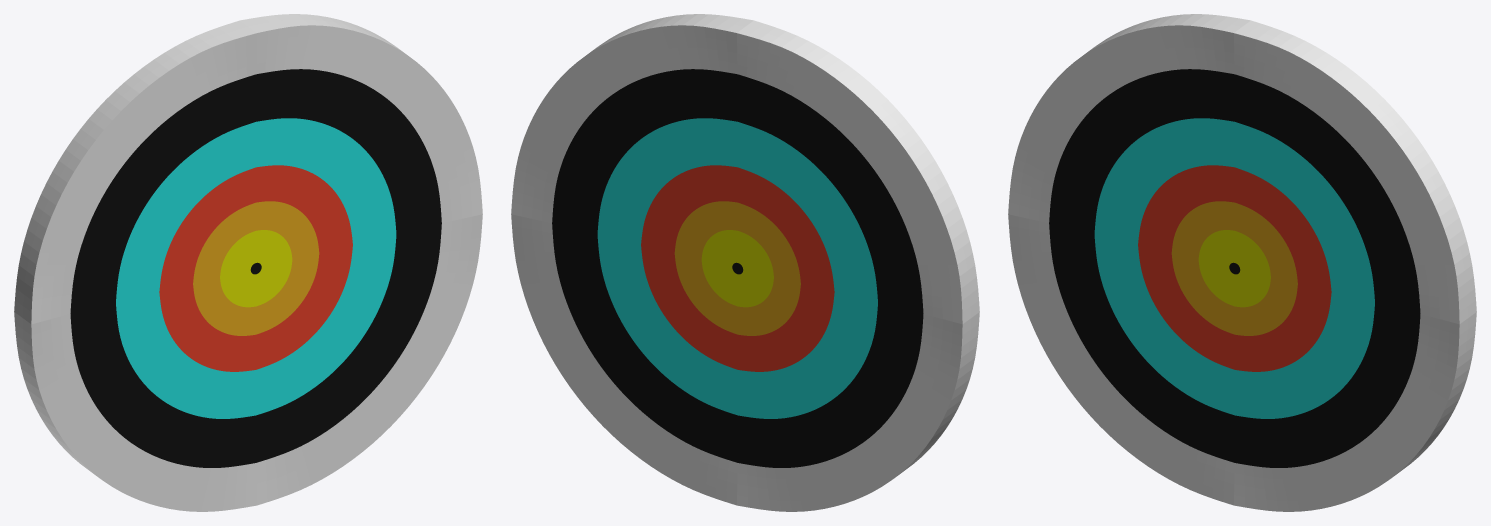
File: point_taraget.fbx
3 renders of one model, left to right at view 1: azimuth 30°, elevation 25°; view 2: azimuth 150°, elevation 25°; view 3: azimuth 330°, elevation 25°, orthographic.
Visible parts, largest first — view 1: Cube; view 2: Cube; view 3: Cube.
Part boxes in pixels (x1=…): Cube: x1=14, y1=14, x2=482, y2=511; Cube: x1=511, y1=14, x2=979, y2=511; Cube: x1=1008, y1=14, x2=1476, y2=511.
Bounding box in the file's own units: 198 × 198 × 13.11.
